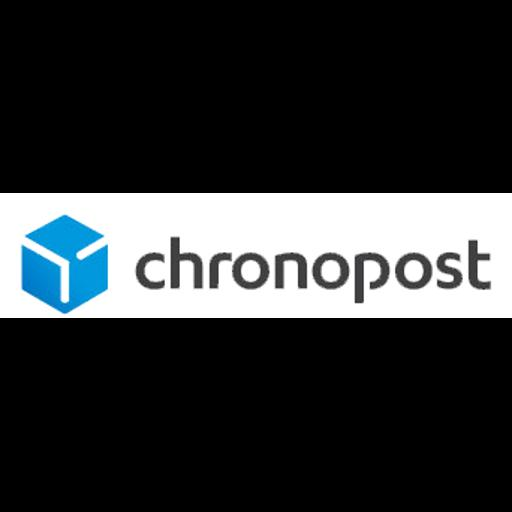Chronopost International: (0, 193, 512, 318)
